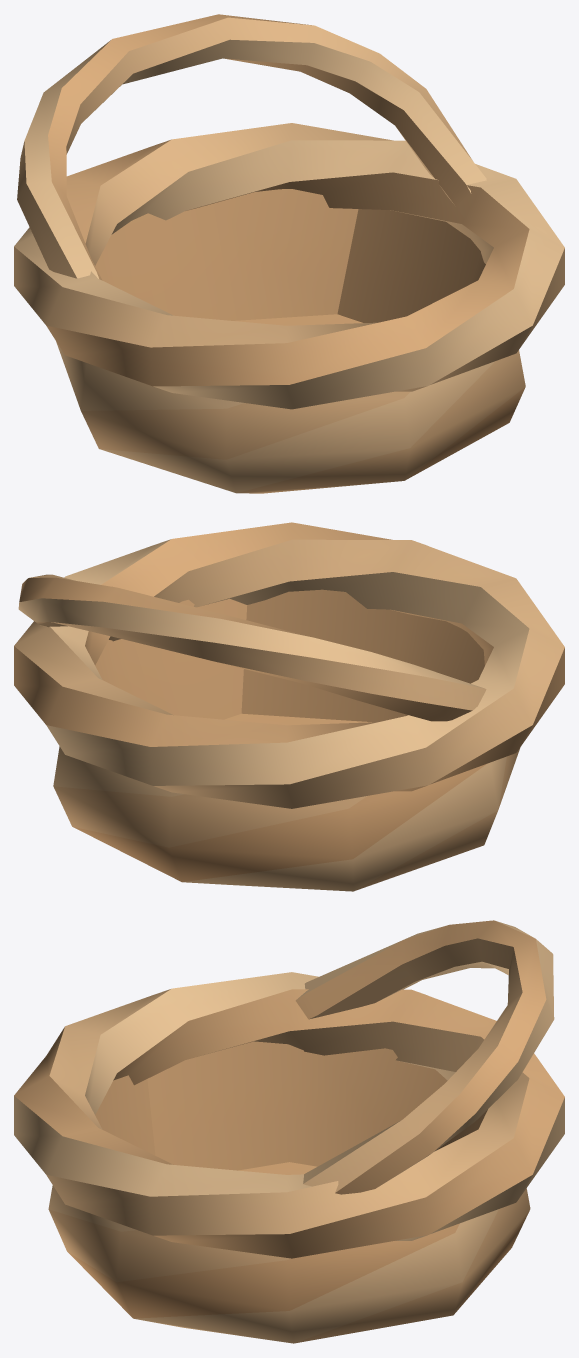
File: panier_02.glb
3 renders of one model, top to bottom at view 1: azimuth 30°, elevation 25°; view 2: azimuth 150°, elevation 25°; view 3: azimuth 270°, elevation 25°, orthographic.
Visible parts, largest first — view 1: Food_Basket_B_Empty; view 2: Food_Basket_B_Empty; view 3: Food_Basket_B_Empty.
Boxes of the visible parts, bbox=[...] form: Food_Basket_B_Empty: bbox=[14, 14, 564, 493]; Food_Basket_B_Empty: bbox=[14, 522, 564, 891]; Food_Basket_B_Empty: bbox=[14, 920, 564, 1343].
Bounding box in the file's own units: 0.9436 × 0.5757 × 0.9252.
Materials: 1 (1 with a texture image).
